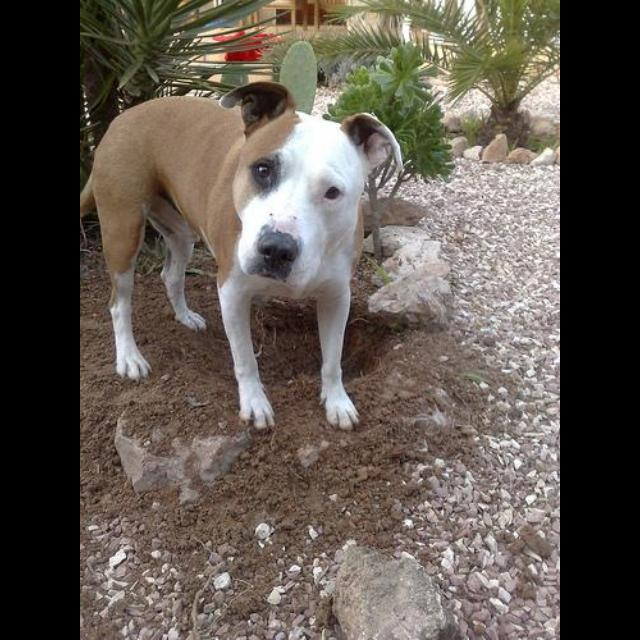amstaff: (81, 81, 403, 434)
